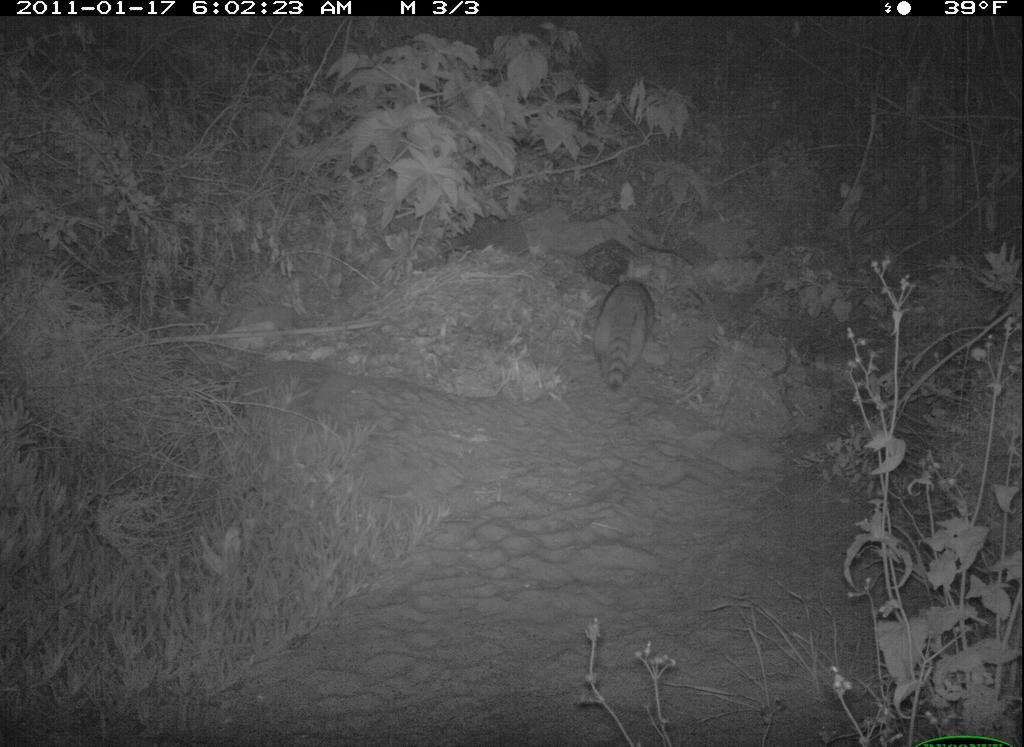raccoon: (583, 271, 669, 397)
